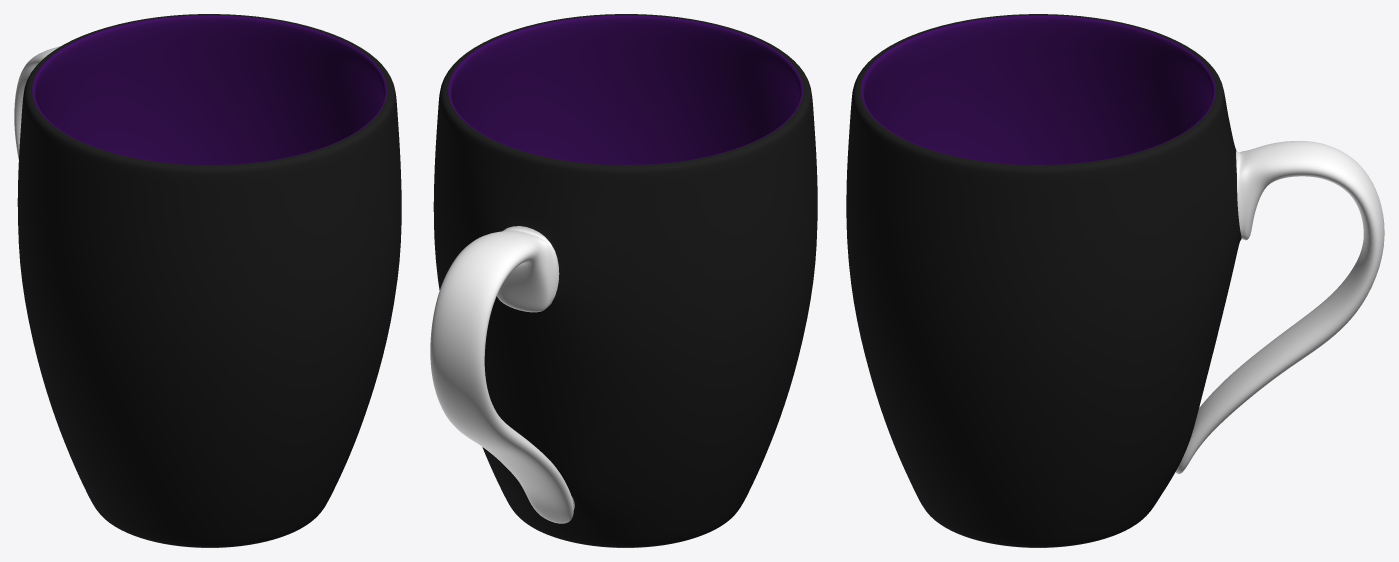
The model's file is mugV2sketchfab.fbx.
3 renders of one model, left to right at view 1: azimuth 30°, elevation 25°; view 2: azimuth 150°, elevation 25°; view 3: azimuth 270°, elevation 25°, orthographic.
Parts seen in each view (by area): view 1: Circle; view 2: Circle; view 3: Circle.
Part boxes in pixels (x1,y1,x2,y2): Circle: (14,14,401,547); Circle: (430,14,817,547); Circle: (846,14,1384,547).
Bounding box in the file's own units: 190 × 225 × 267.
